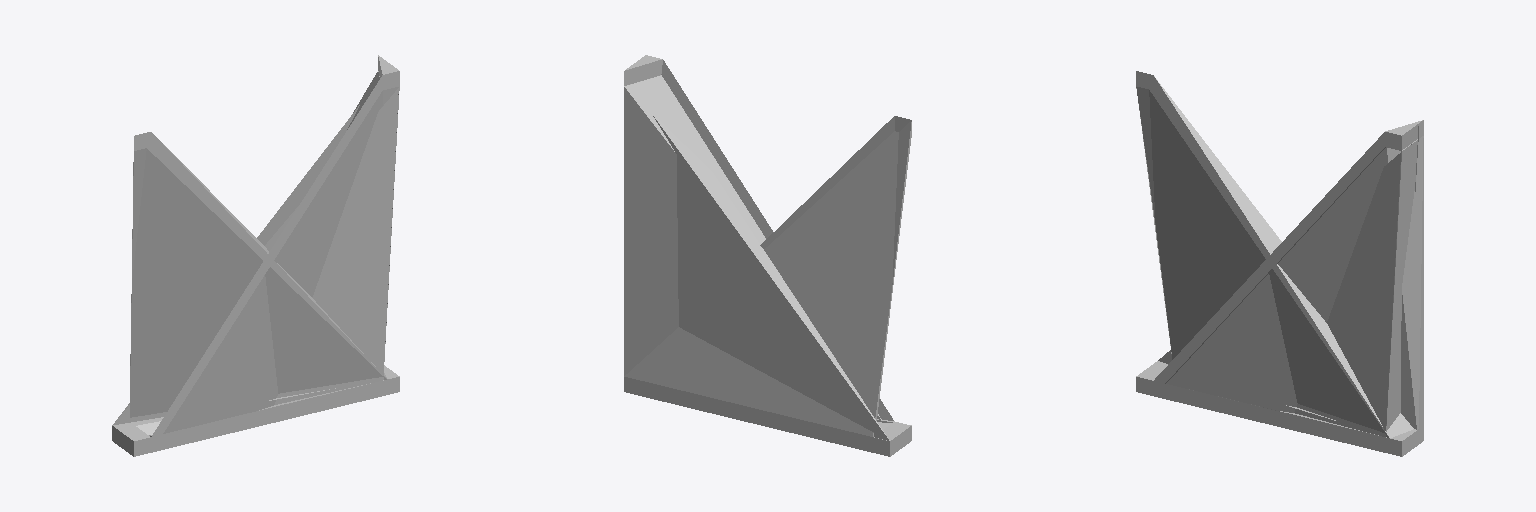
Rendered from cabinet.obj.
3 renders of one model, left to right at view 1: azimuth 30°, elevation 25°; view 2: azimuth 150°, elevation 25°; view 3: azimuth 330°, elevation 25°, orthographic.
Visible parts, largest first — view 1: Box001, Box002, Box006; view 2: Box001, Box006; view 3: Box001, Box002.
Boxes of the visible parts, x1,y1,x2,y2 form: Box001: [112, 55, 399, 456]; Box002: [134, 378, 399, 455]; Box006: [112, 371, 397, 456]; Box001: [624, 55, 911, 450]; Box006: [624, 377, 911, 456]; Box001: [1136, 71, 1423, 455]; Box002: [1136, 377, 1401, 456].
Size of the model in its own units: 138132 by 159537 by 19500.